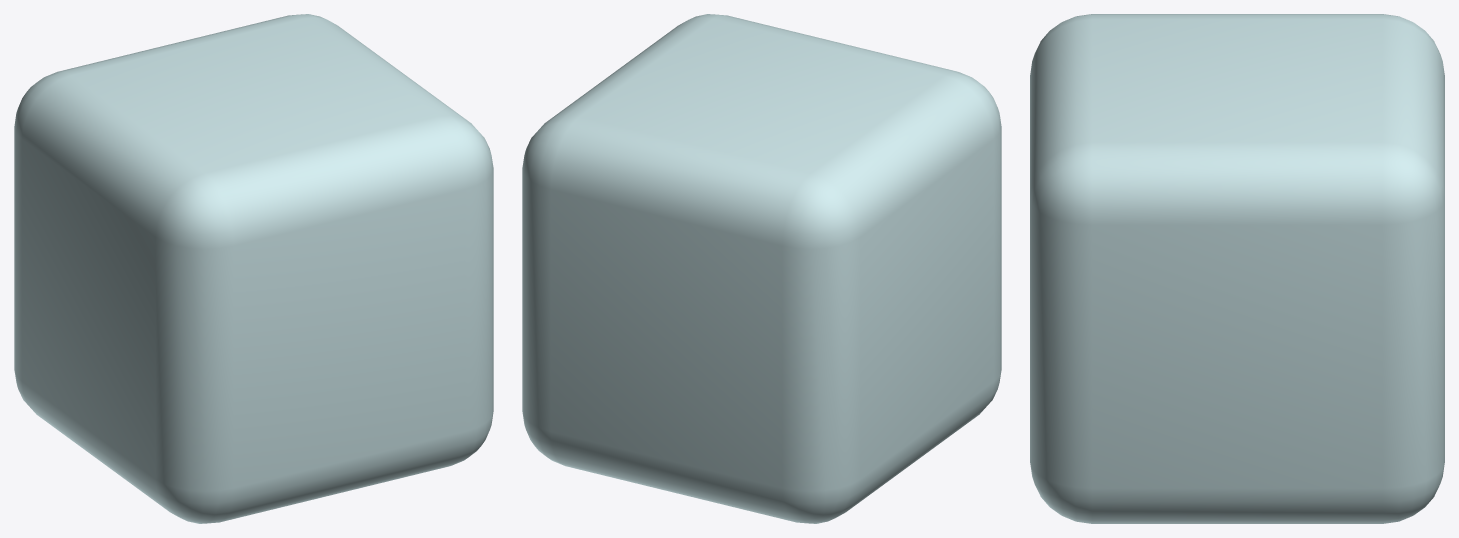
File: glassbox.glb
3 renders of one model, left to right at view 1: azimuth 30°, elevation 25°; view 2: azimuth 150°, elevation 25°; view 3: azimuth 270°, elevation 25°, orthographic. The views are drawn at different scales.
Parts seen in each view (by area): view 1: Shell; view 2: Shell; view 3: Shell.
Part boxes in pixels (box(x1,y1,x2,y2)): Shell: box(14, 14, 493, 523); Shell: box(522, 14, 1001, 523); Shell: box(1030, 14, 1444, 523).
Size of the model in its own units: 2 by 2 by 2.
